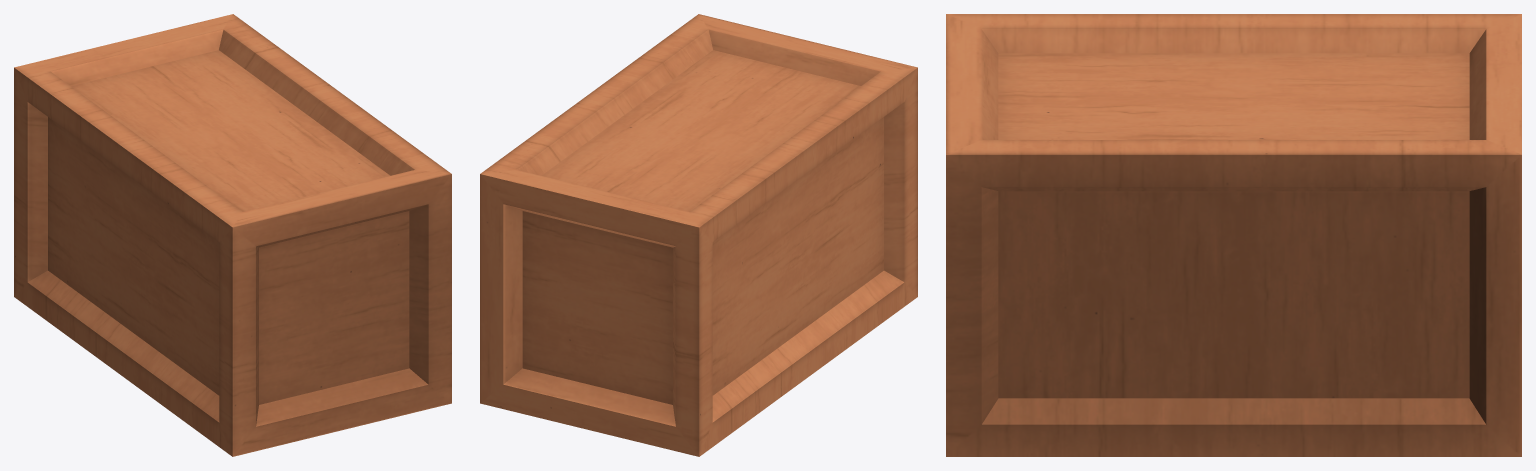
The model's file is woodBox02_01.fbx.
3 views of the same model, side by side, from view 1: azimuth 30°, elevation 25°; view 2: azimuth 150°, elevation 25°; view 3: azimuth 270°, elevation 25° (orthographic). The views are drawn at different scales.
Parts seen in each view (by area): view 1: polySurface180; view 2: polySurface180; view 3: polySurface180.
Boxes of the visible parts, bbox=[...] form: polySurface180: bbox=[14, 14, 451, 456]; polySurface180: bbox=[480, 14, 917, 456]; polySurface180: bbox=[946, 14, 1521, 456].
Size of the model in its own units: 10.09 by 10.09 by 17.42.
1 material, 1 textured.
